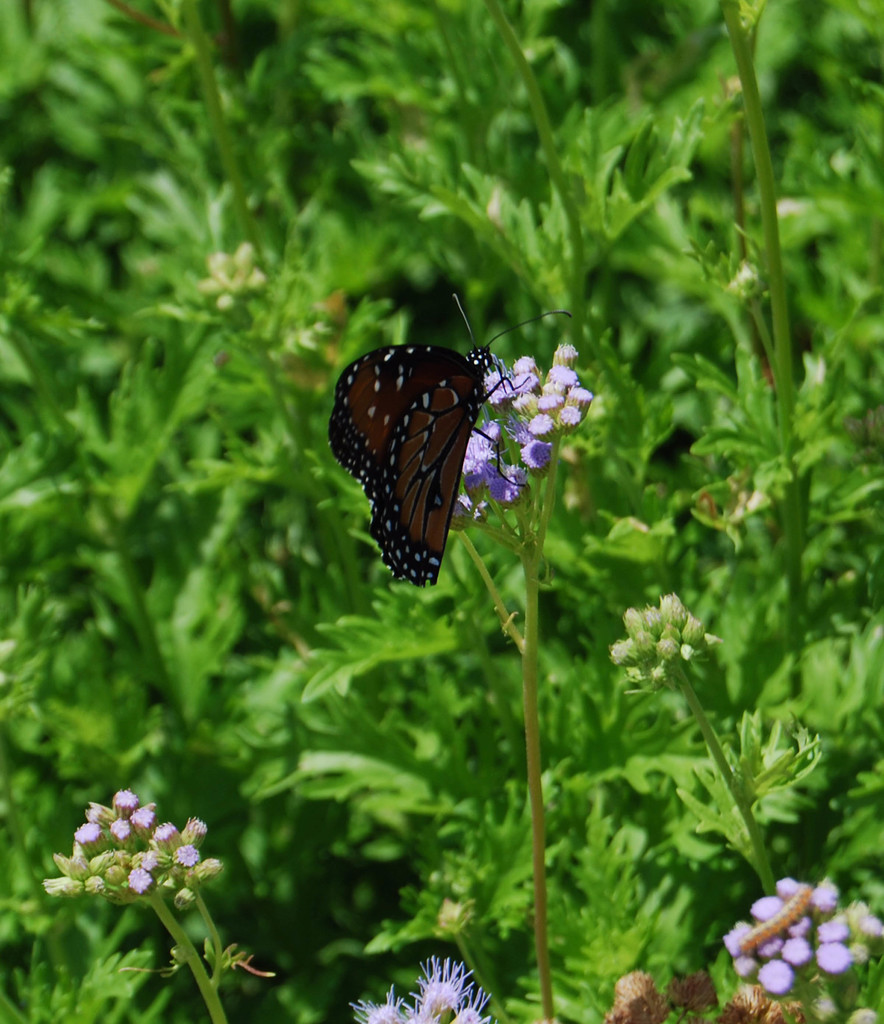Butterfly: (316, 327, 508, 585)
